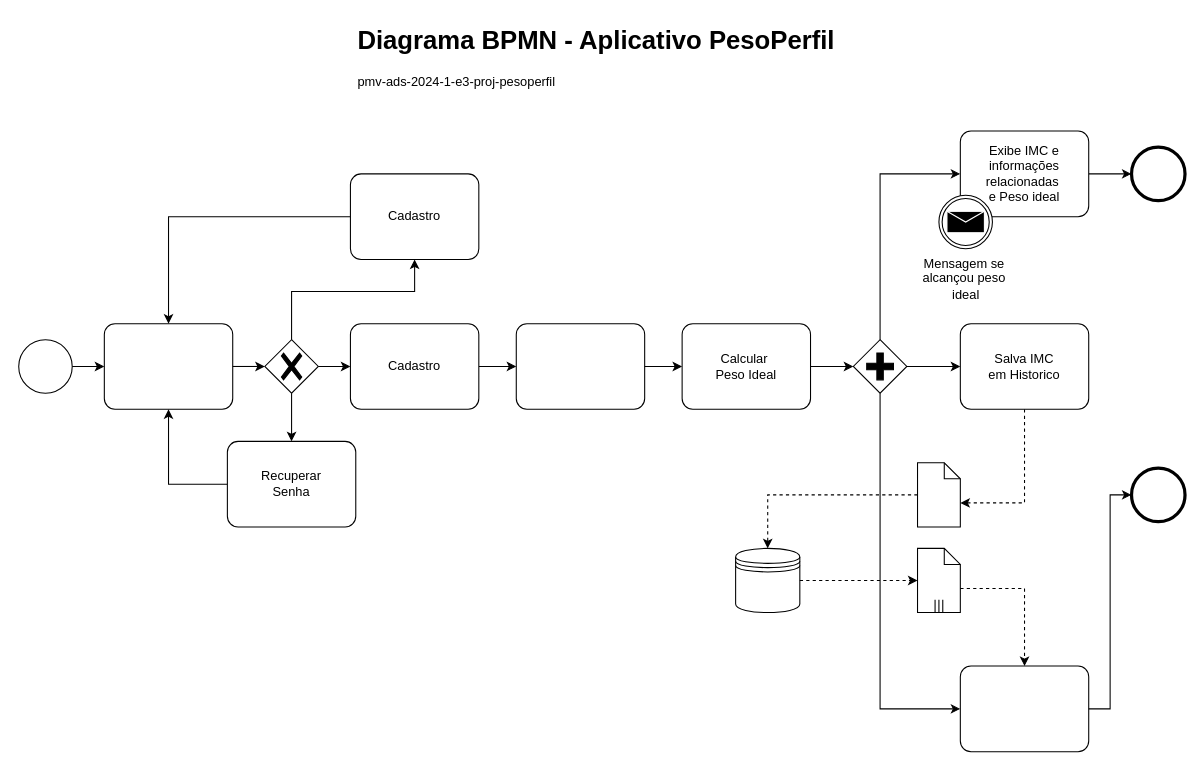
Some shapes in this 1204 by 770 pixel diagram are drawn without their labels. The centre of each missing label's shape, as x and y in pixels:
Calcular IMC: (x=580, y=366)
DB: (x=767, y=580)
Exibe Histórico de IMC: (x=1024, y=708)
Login: (x=168, y=366)
